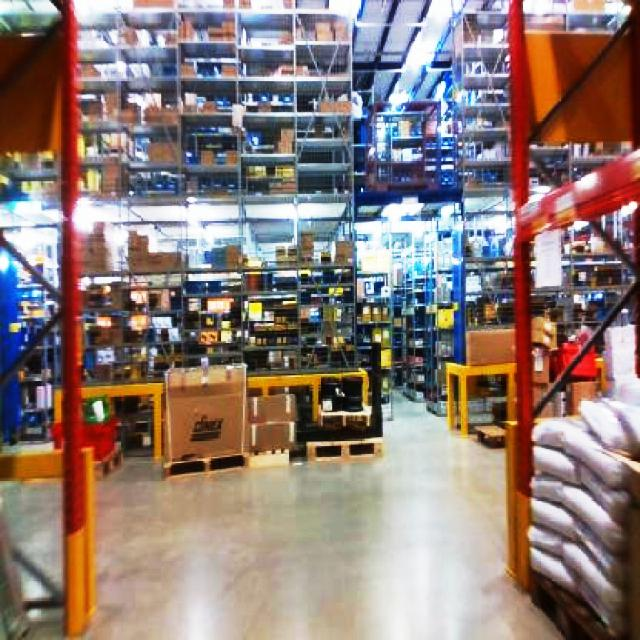ground: (0, 382, 591, 638)
pallet: (62, 0, 375, 458), (506, 0, 638, 638), (74, 0, 355, 197), (526, 397, 638, 638), (158, 362, 383, 477), (0, 438, 97, 638), (443, 315, 555, 437), (245, 366, 382, 460), (162, 360, 246, 475), (49, 380, 163, 458), (363, 97, 452, 192), (443, 360, 517, 437), (305, 435, 383, 460)
